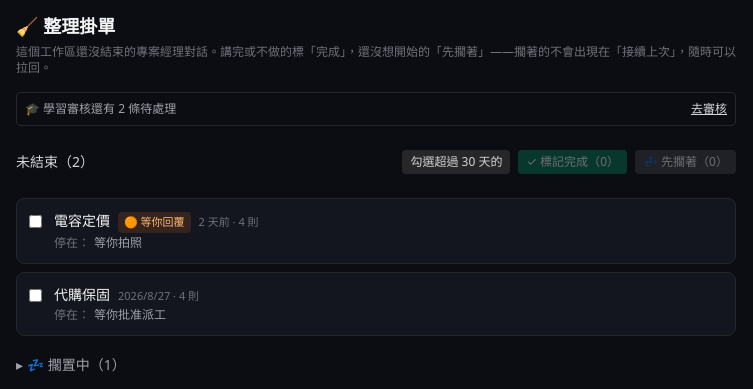
it: TidyPanel（整理掛單） › 勾選超過 30 天的 → 批次標記完成
Expected: the button "電容定價" is shown, [54,211,110,231]
Click the button "勾選超過 30 天的": click(456, 162) [402,150,510,174]
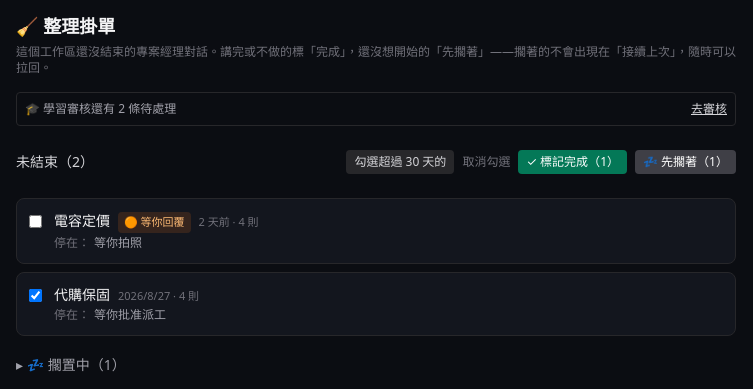
Click the button "✓ 標記完成（1）": click(573, 162) [518,150,627,174]
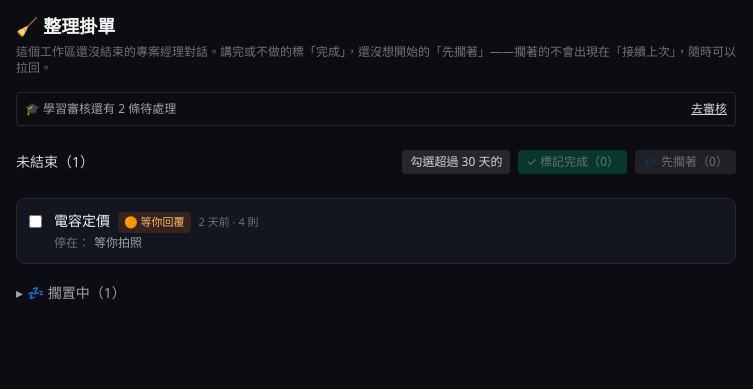
Result: the button "代購保固" is gone
